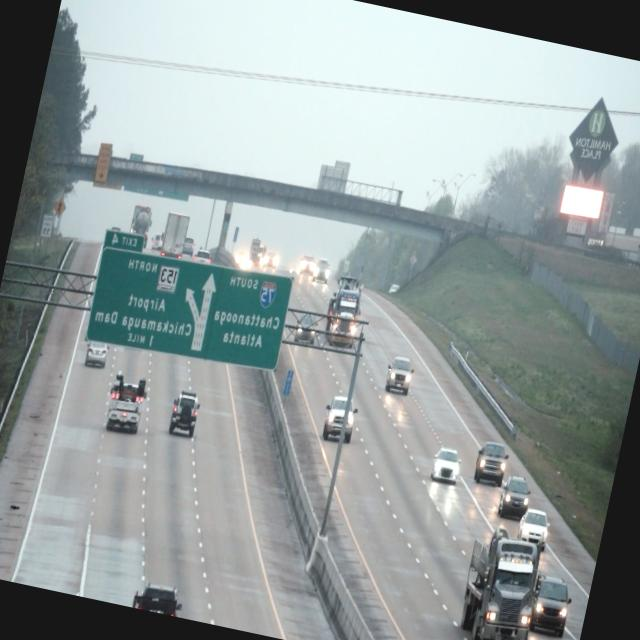Vehicle: (446, 530, 546, 640), (524, 569, 576, 640), (322, 271, 368, 347), (103, 368, 150, 438), (128, 575, 184, 617), (317, 394, 360, 445), (472, 436, 512, 488), (496, 470, 534, 523), (512, 505, 552, 551), (166, 388, 204, 436), (423, 446, 463, 488), (380, 353, 417, 396), (287, 306, 322, 348)
